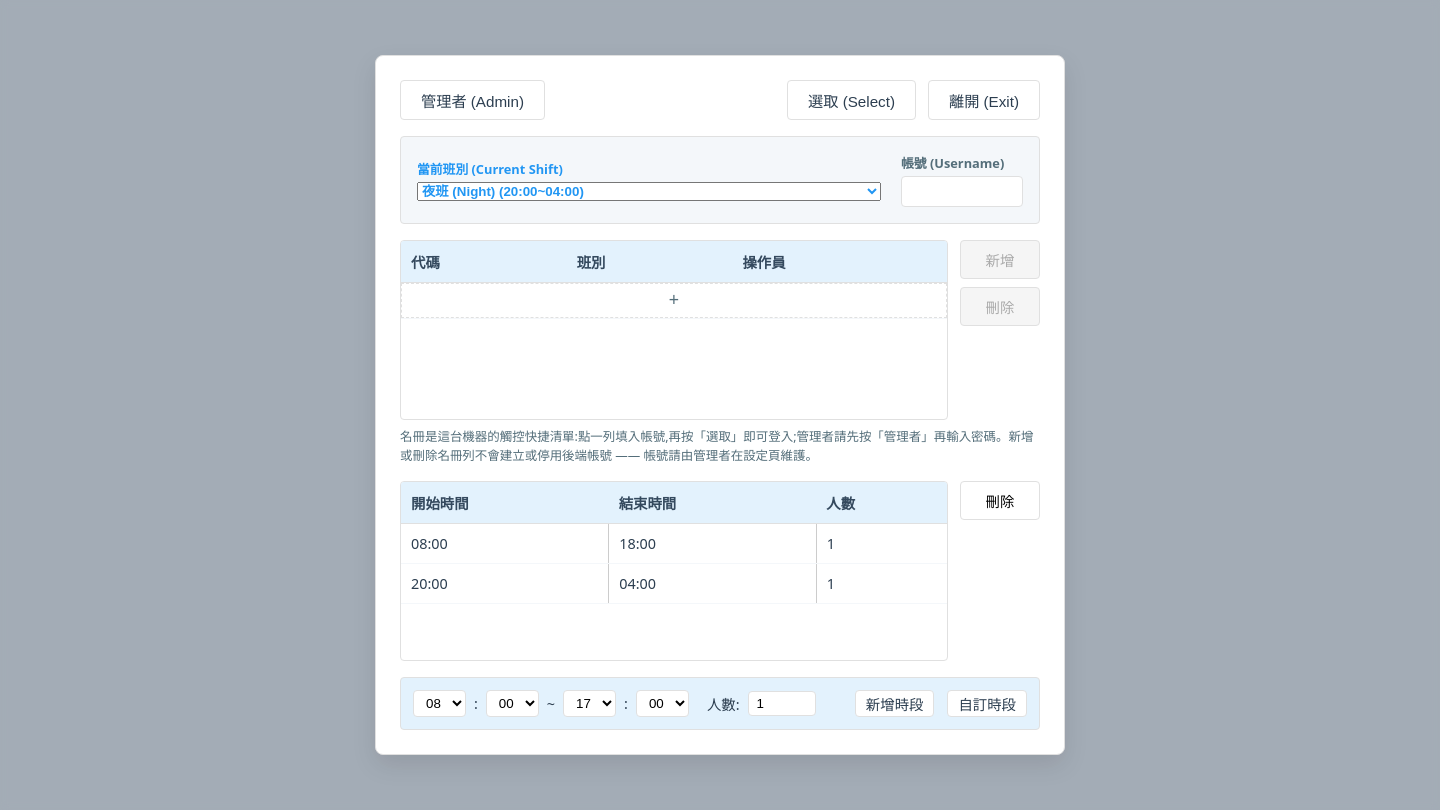
it: S17 名冊編輯就地發生在列上 › 班別欄的標籤是「班別」,與表頭一致(原本寫死英文 Default)
The width and height of the screenshot is (1440, 810).
Step 1. Click the button named "新增一列" → click(674, 301), box [401,283,947,318]
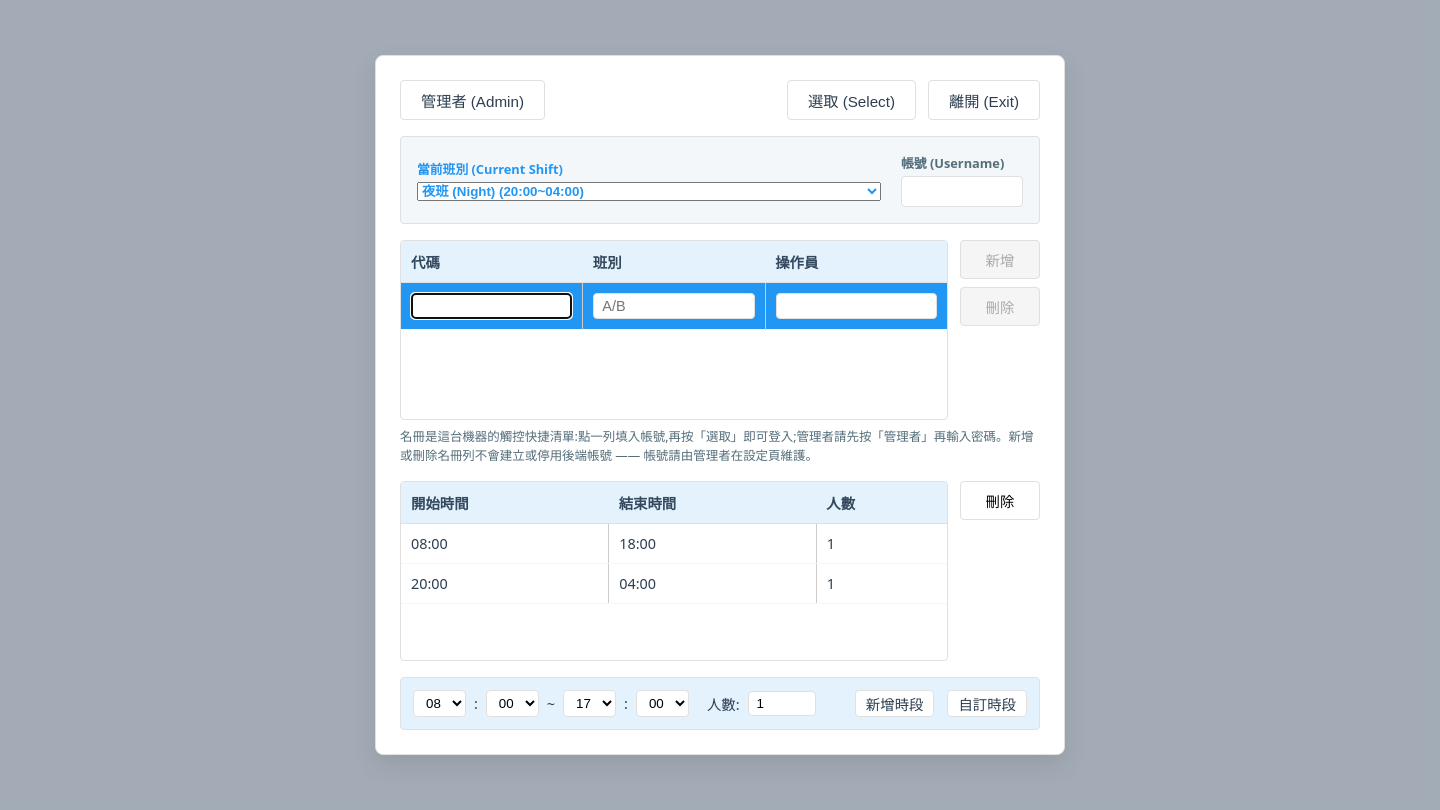
Expected: the field named "班別" is shown, [593,293,755,319]
